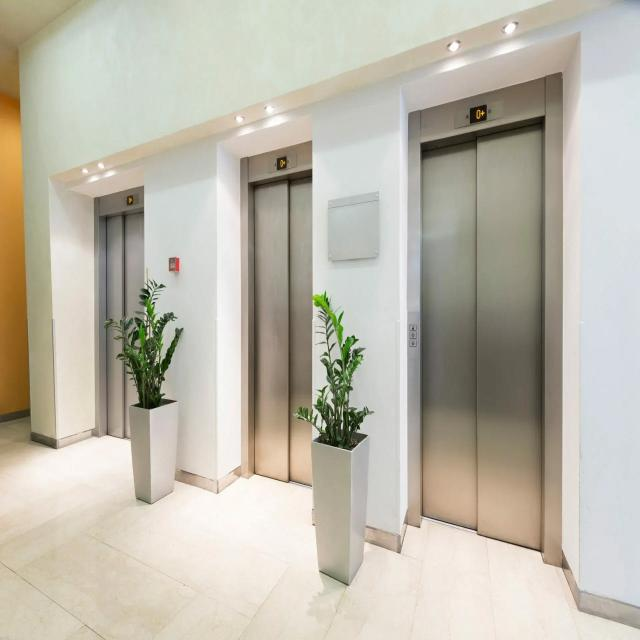elevator: (404, 68, 574, 575), (228, 144, 318, 501), (86, 183, 156, 449)
